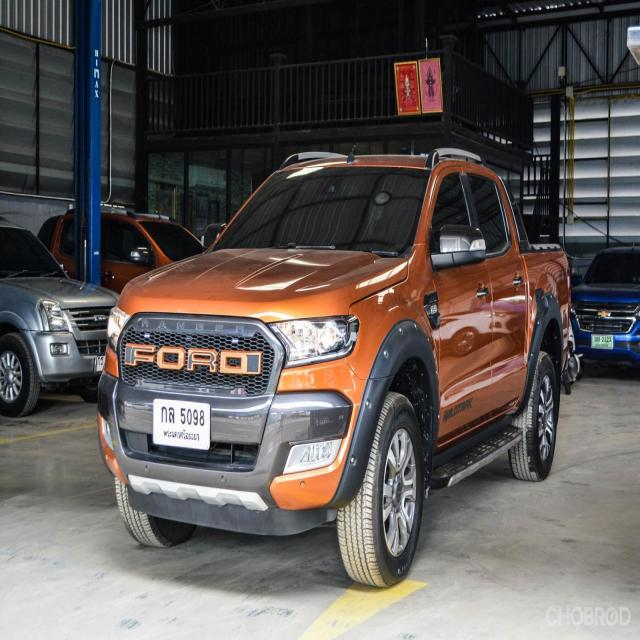license_plate: (151, 393, 213, 456)
